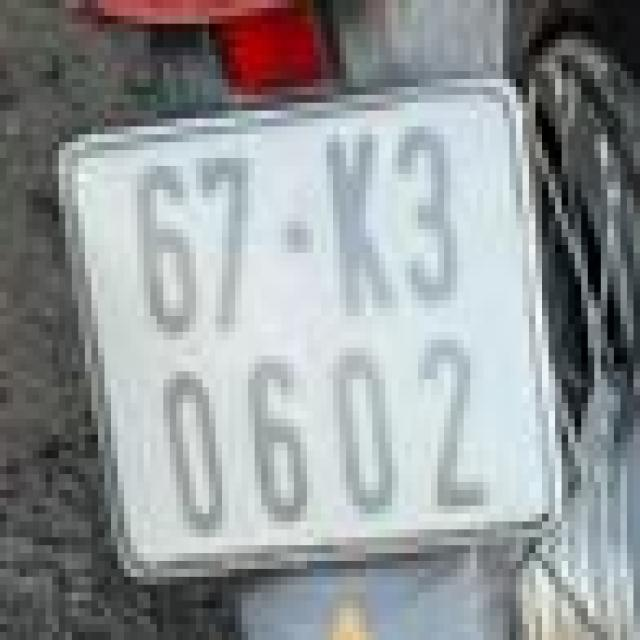0: (323, 336, 402, 525), (156, 364, 228, 545)
2: (408, 332, 493, 513)
3: (402, 115, 474, 312)
6: (127, 154, 206, 344), (242, 348, 320, 522)
7: (190, 146, 262, 344)
K: (314, 130, 398, 328)
